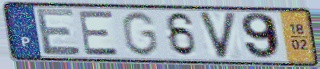6: (165, 11, 198, 59)
9: (241, 11, 284, 62)
E: (33, 7, 84, 58), (77, 10, 122, 57)
G: (119, 10, 160, 58)
V: (196, 11, 239, 61)
